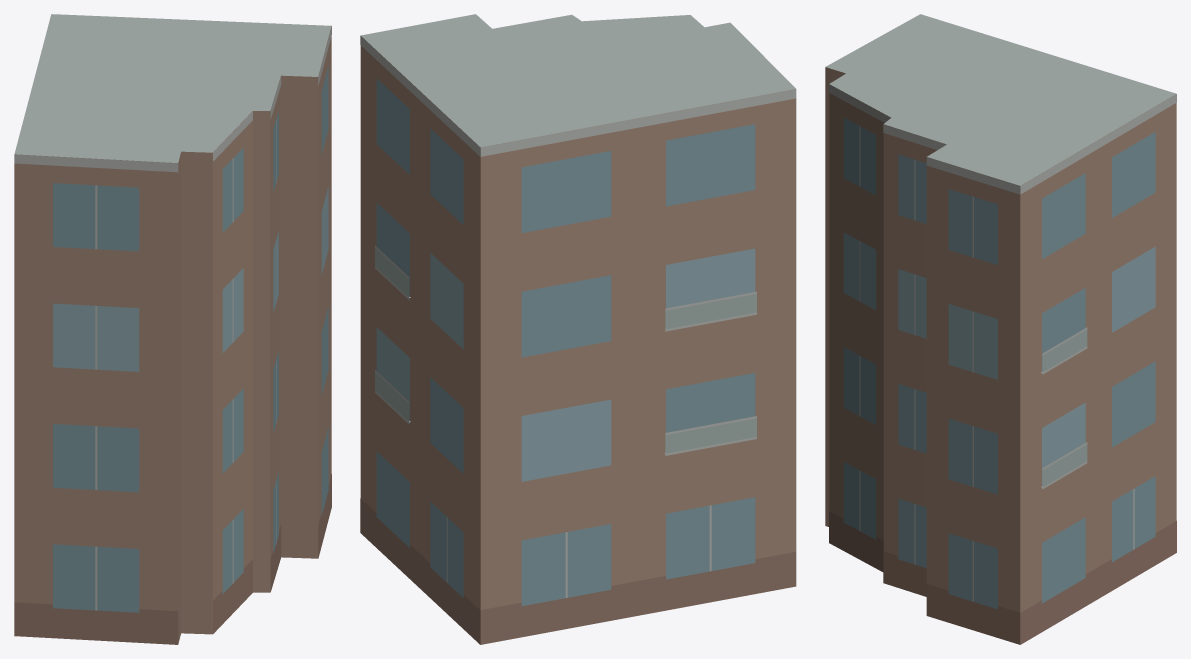
Rendered from survey-upis-32507070.glb.
The picture shows the model from 3 angles, left to right: view 1: azimuth 30°, elevation 25°; view 2: azimuth 150°, elevation 25°; view 3: azimuth 270°, elevation 25°; orthographic projection. The views are drawn at different scales.
Parts seen in each view (by area): view 1: survey-upis-32507070.tmp; view 2: survey-upis-32507070.tmp; view 3: survey-upis-32507070.tmp.
Part boxes in pixels (bbox=[...]): survey-upis-32507070.tmp: bbox=[14, 14, 331, 644]; survey-upis-32507070.tmp: bbox=[360, 14, 796, 644]; survey-upis-32507070.tmp: bbox=[825, 14, 1176, 644].
Bounding box in the file's own units: 10.29 × 12.8 × 8.9.
